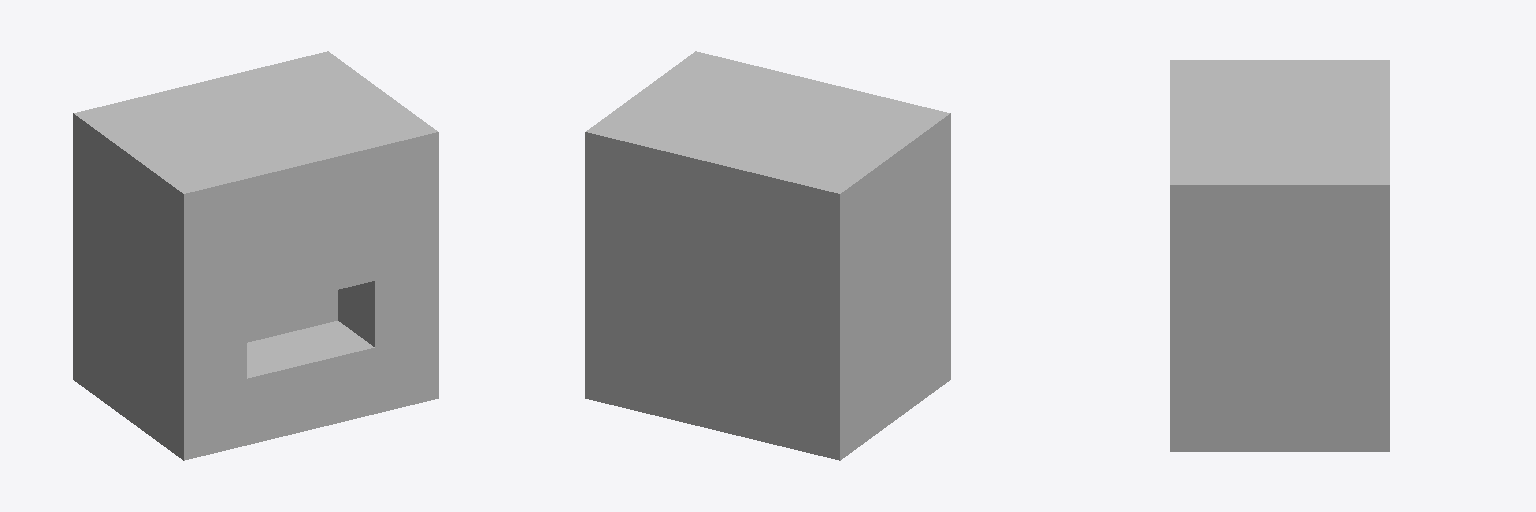
The model's file is head.obj.
3 views of the same model, side by side, from view 1: azimuth 30°, elevation 25°; view 2: azimuth 150°, elevation 25°; view 3: azimuth 270°, elevation 25° (orthographic).
Visible parts, largest first — view 1: Default; view 2: Default; view 3: Default.
Part boxes in pixels (left/top/right/bottom): Default: left=73, top=51, right=438, bottom=460; Default: left=585, top=51, right=950, bottom=460; Default: left=1170, top=60, right=1389, bottom=451.
Bounding box in the file's own units: 0.4 × 0.4 × 0.3.